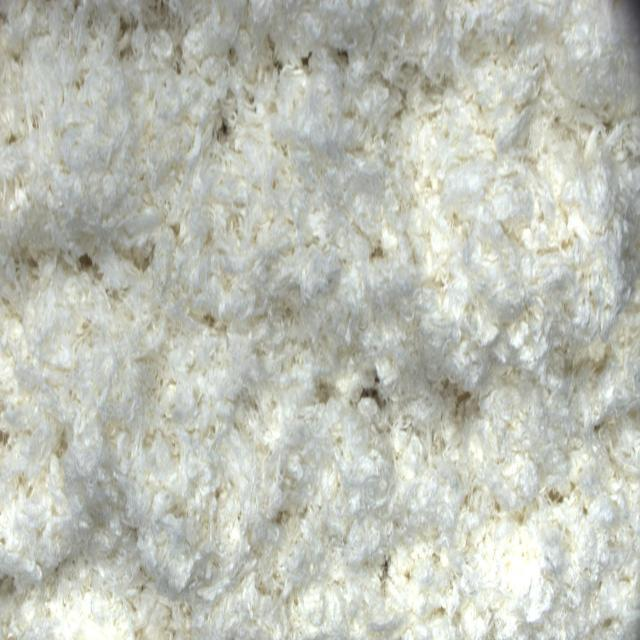dust: (362, 376, 383, 415)
